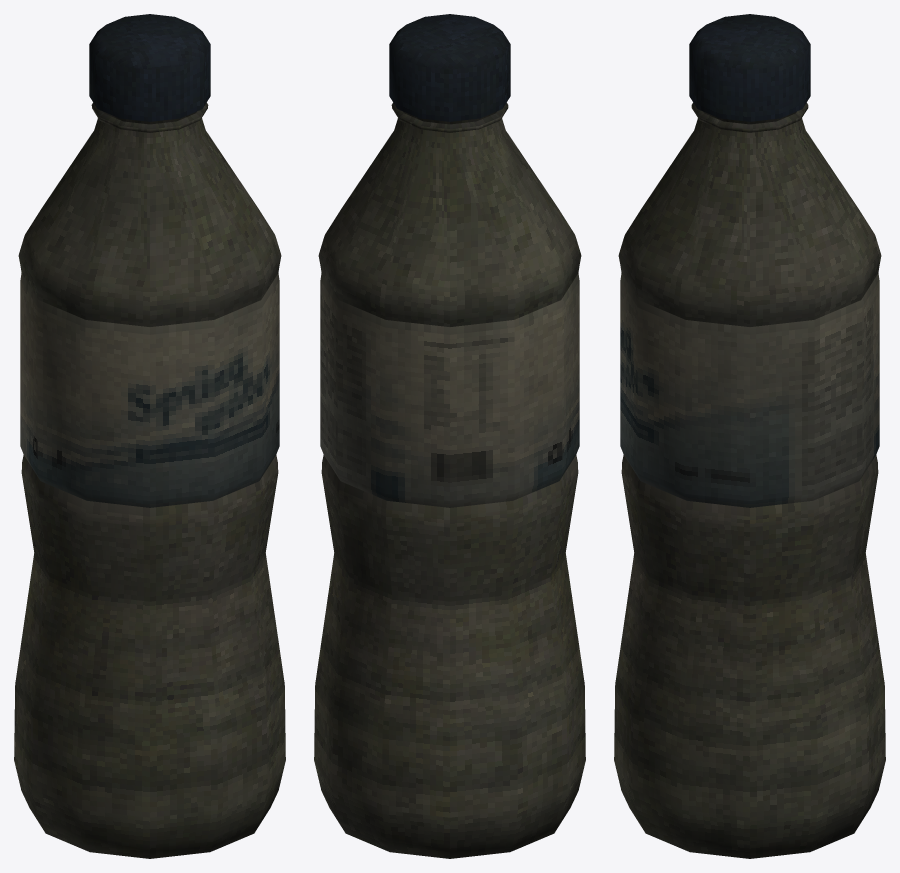
The model's file is plastic_bottle_mx_1_dirty.glb.
The picture shows the model from 3 angles, left to right: view 1: azimuth 30°, elevation 25°; view 2: azimuth 150°, elevation 25°; view 3: azimuth 270°, elevation 25°; orthographic projection.
Visible parts, largest first — view 1: plastic_bottle_mx_1_dirty; view 2: plastic_bottle_mx_1_dirty; view 3: plastic_bottle_mx_1_dirty.
Part boxes in pixels (<box>): plastic_bottle_mx_1_dirty: <box>14,14,285,858</box>; plastic_bottle_mx_1_dirty: <box>314,14,585,858</box>; plastic_bottle_mx_1_dirty: <box>614,14,885,858</box>.
Bounding box in the file's own units: 0.1009 × 0.3194 × 0.1009.
1 material, 1 textured.
